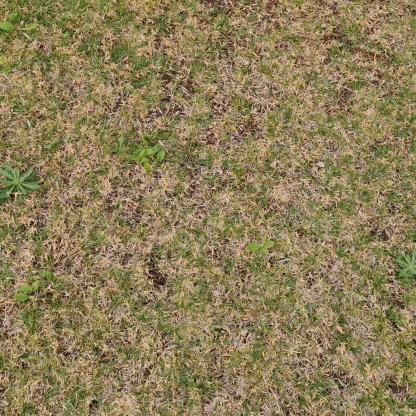Weeds: (123, 136, 166, 172), (0, 164, 39, 200), (15, 270, 53, 302), (395, 251, 415, 280), (247, 236, 274, 256)
